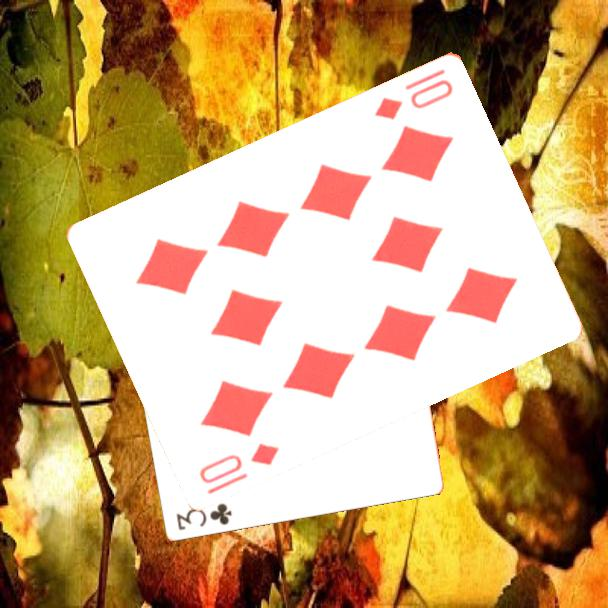c03: (172, 500, 235, 534)
d10: (195, 438, 283, 497), (371, 75, 456, 123)
